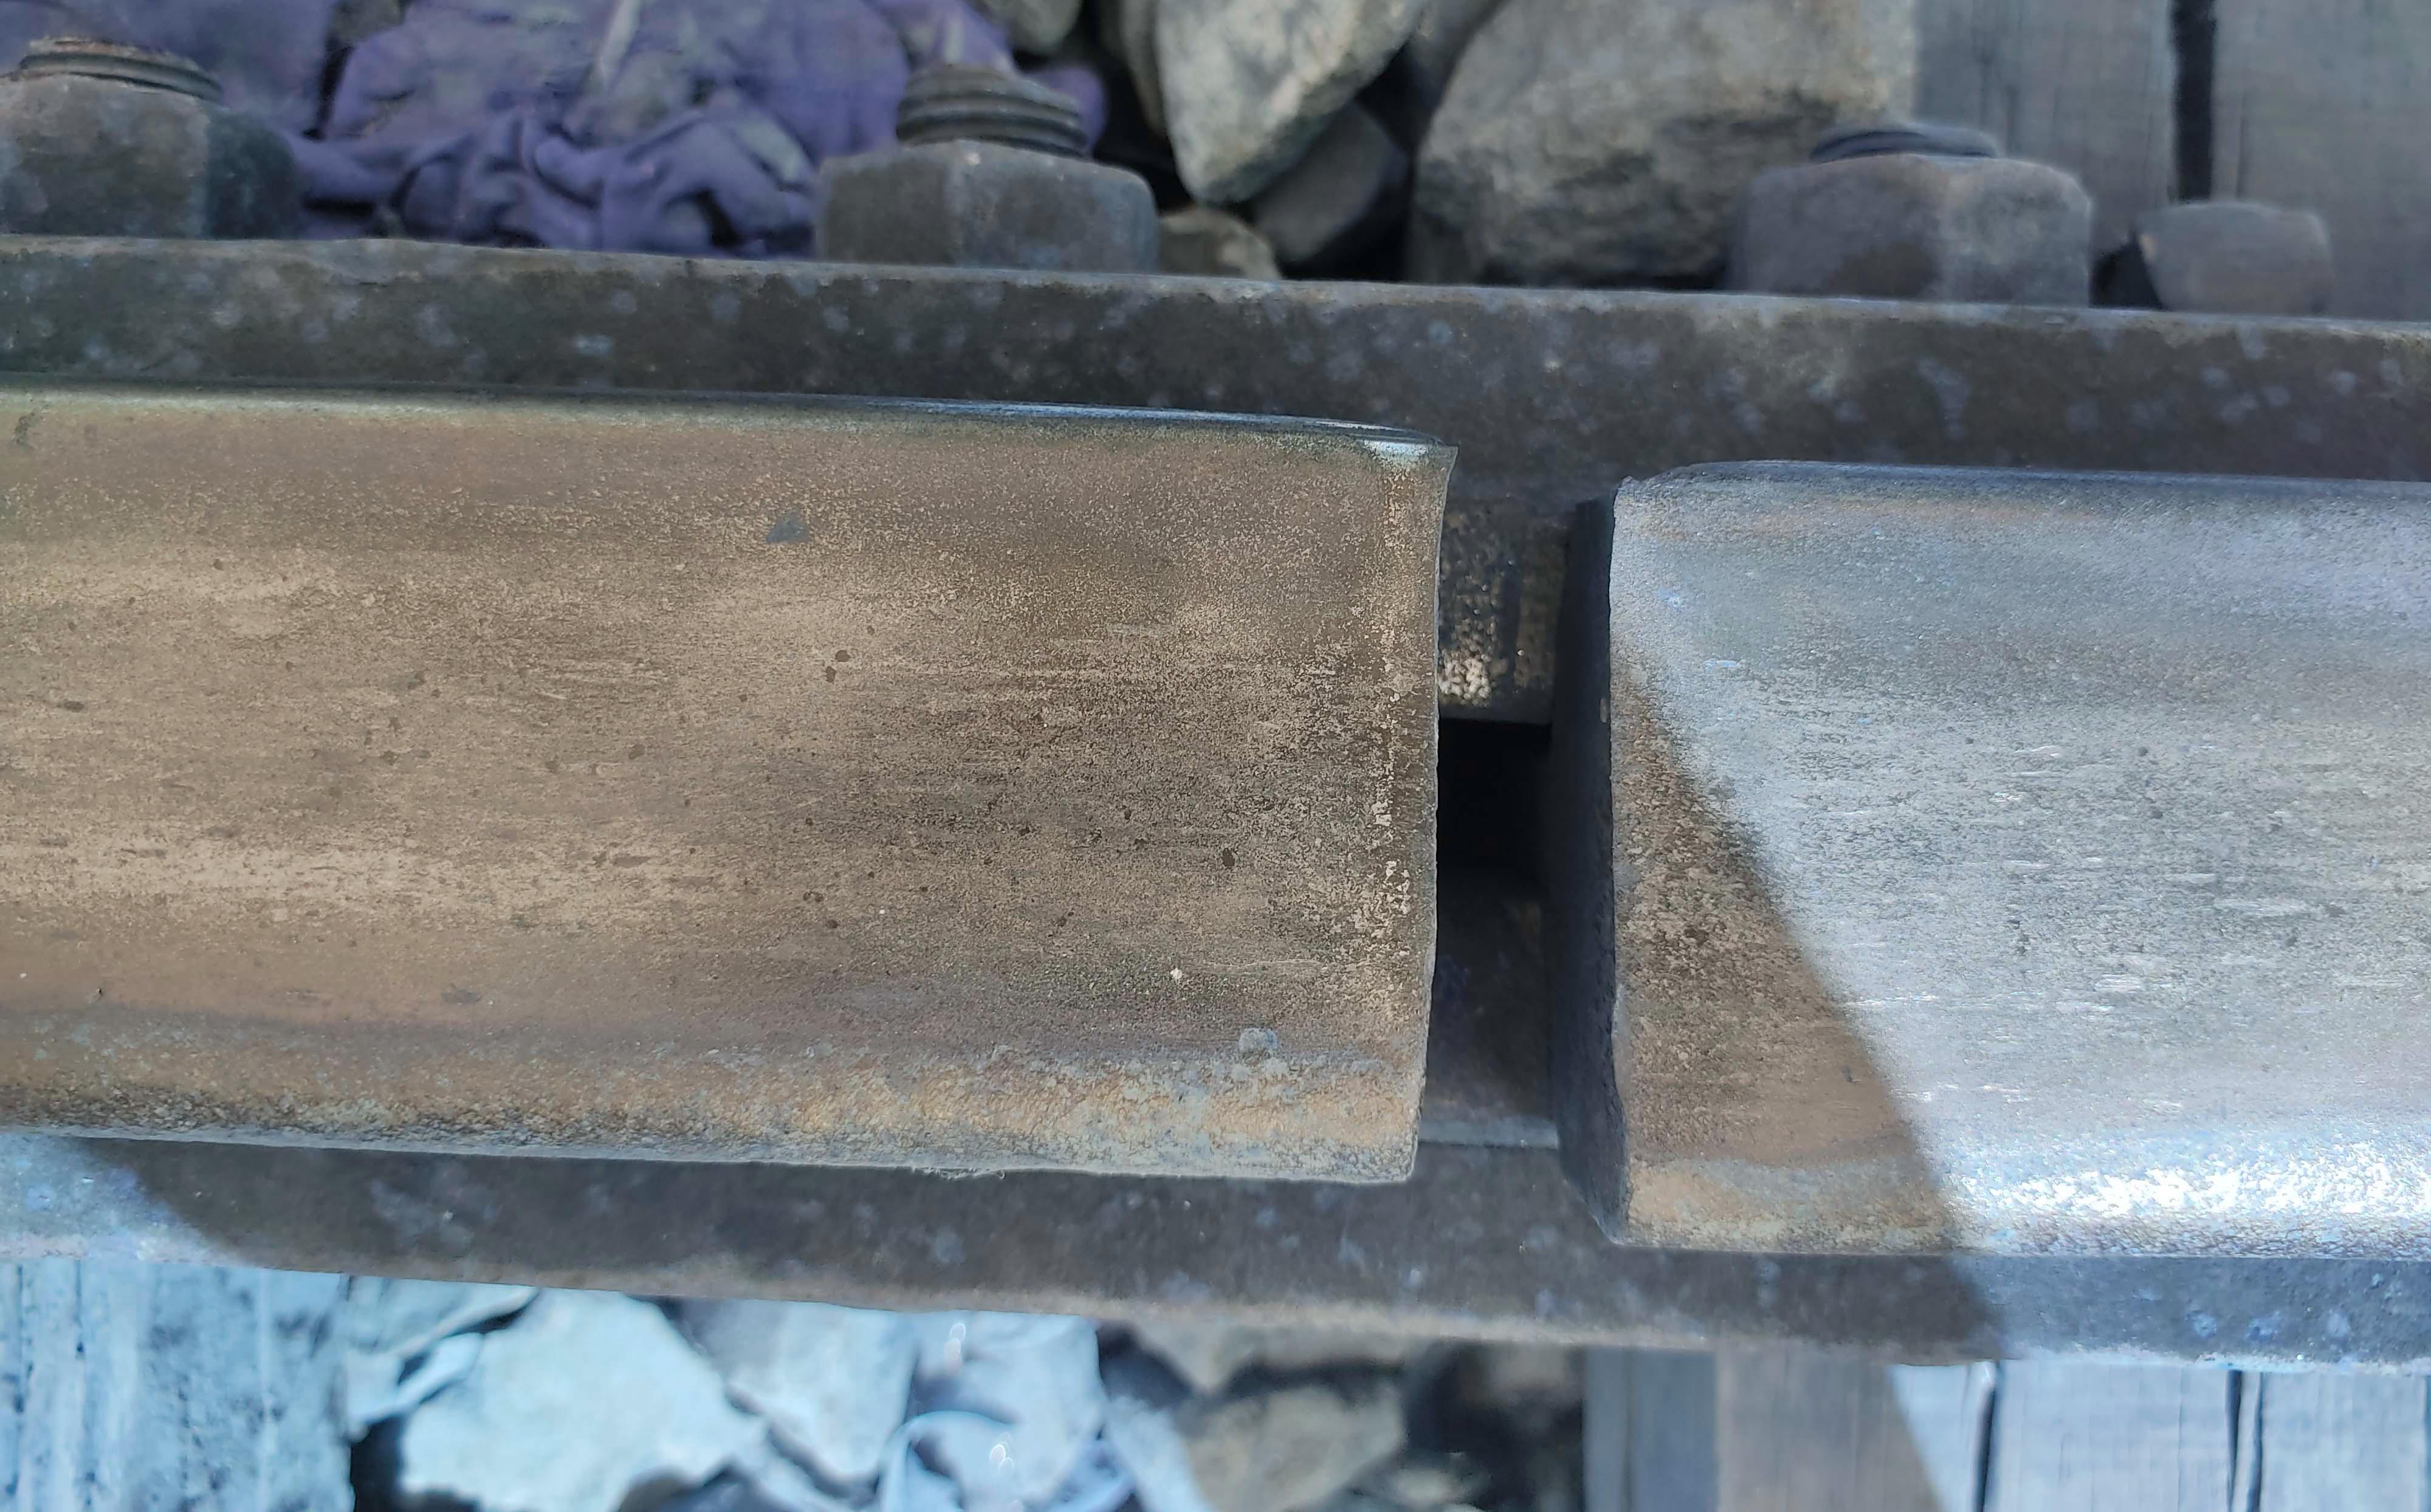error2: (1325, 362, 1804, 1259)
